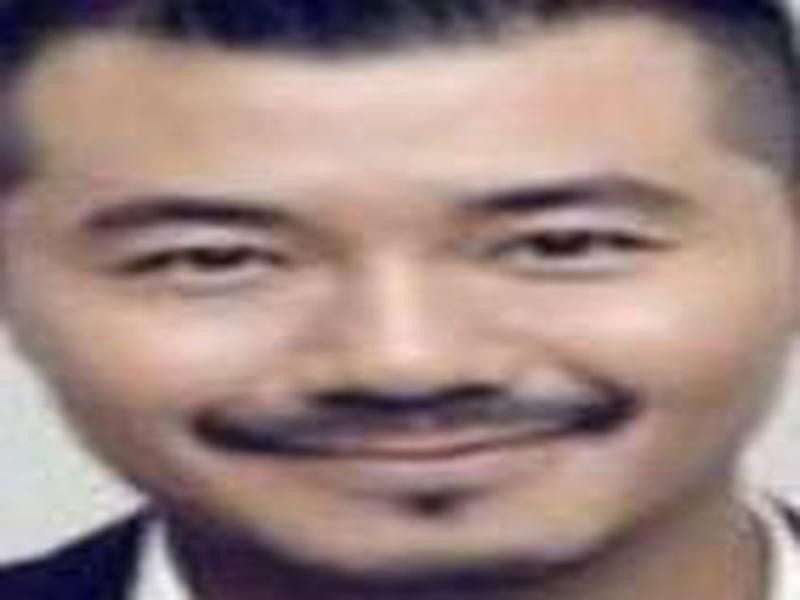without_mask: (12, 40, 791, 572)
